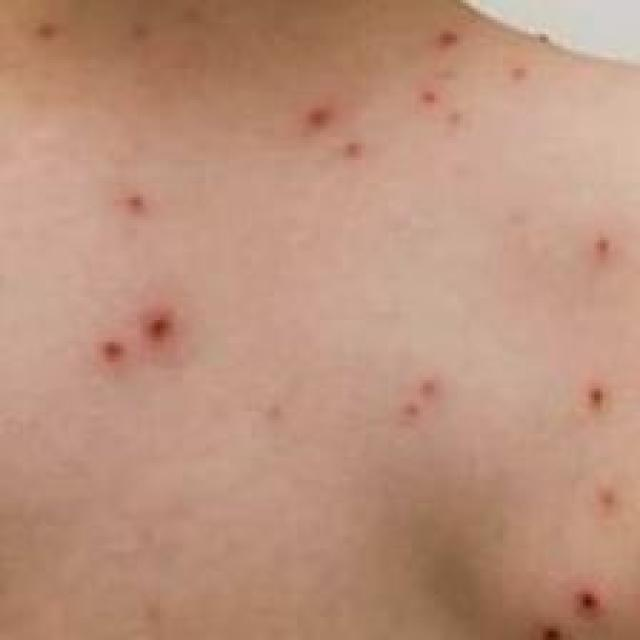monkeypox: (6, 4, 625, 640)
